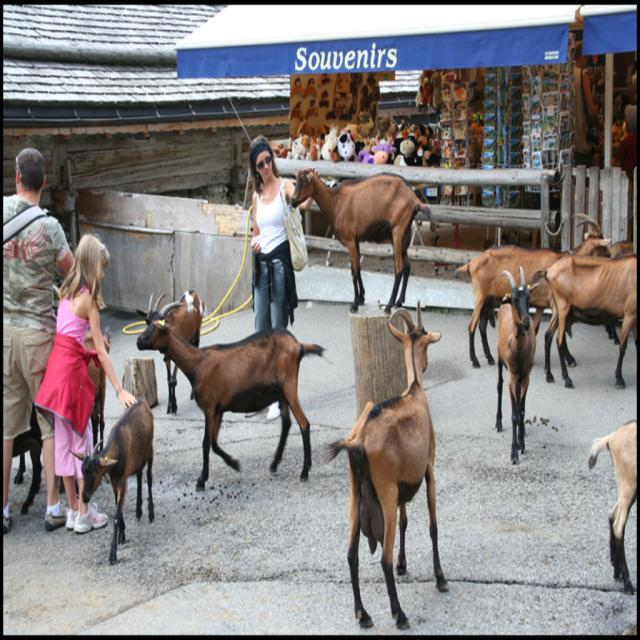Goat: (135, 291, 327, 491), (289, 166, 437, 315)
